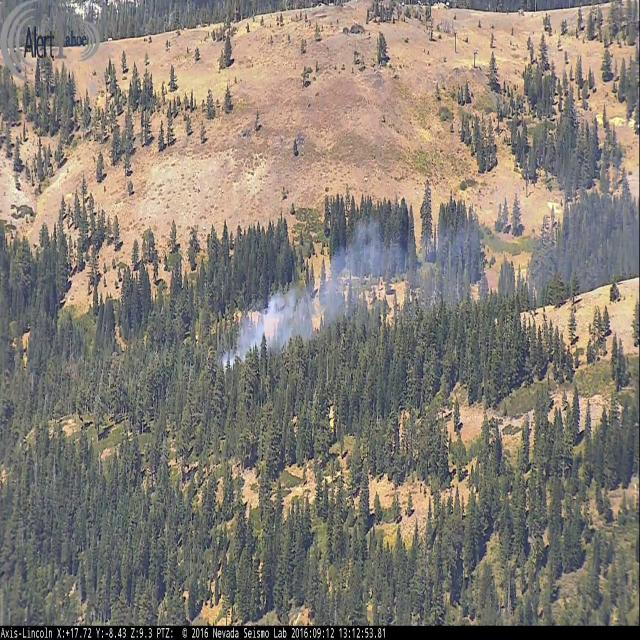smoke: (219, 186, 640, 369)
